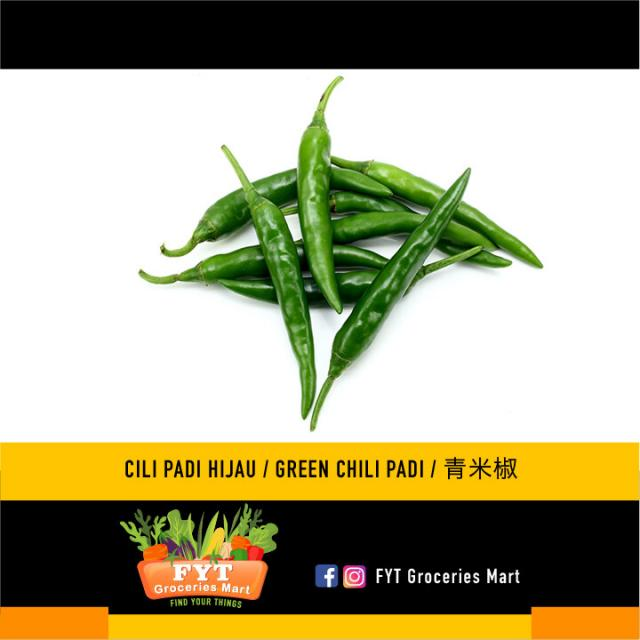green chilli: (311, 168, 472, 430), (221, 145, 316, 419), (298, 76, 343, 313), (454, 202, 543, 268), (332, 158, 445, 208)
